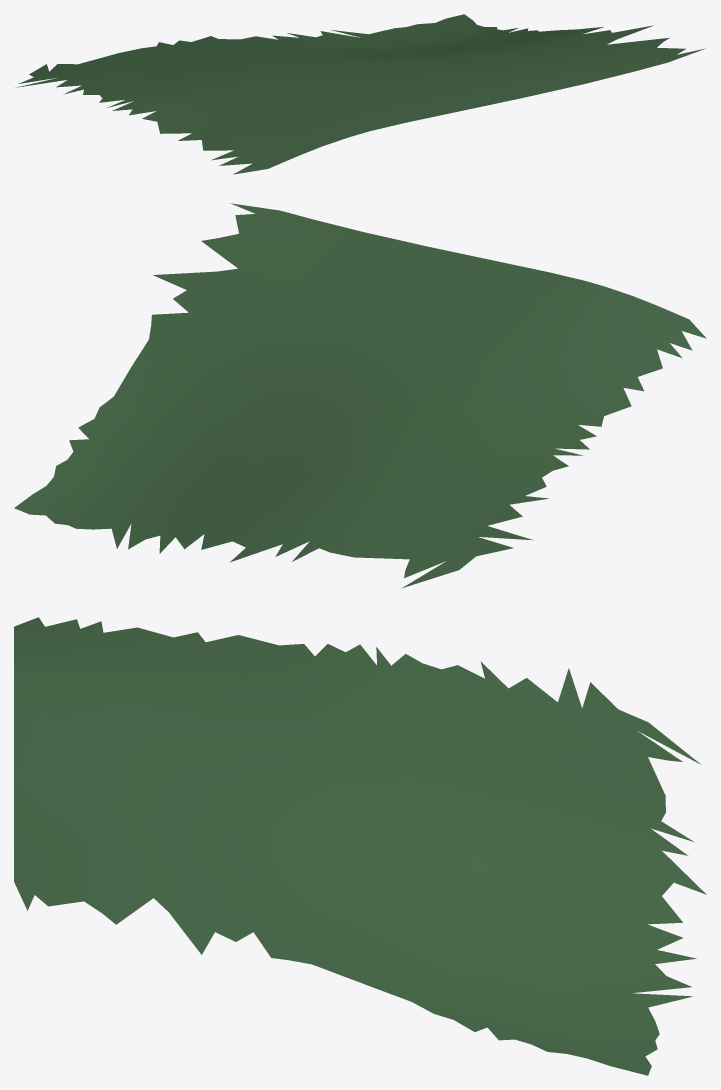
Rendered from payo_land_x3_y10_lod1.glb.
3 views of the same model, one above another, from view 1: azimuth 30°, elevation 25°; view 2: azimuth 150°, elevation 25°; view 3: azimuth 270°, elevation 25° (orthographic). The views are drawn at different scales.
Visible parts, largest first — view 1: payo_land_x3_y10; view 2: payo_land_x3_y10; view 3: payo_land_x3_y10.
Part boxes in pixels (x1,y1,x2,y2): payo_land_x3_y10: [16, 14, 704, 174]; payo_land_x3_y10: [14, 203, 706, 588]; payo_land_x3_y10: [14, 617, 706, 1075].
Size of the model in its own units: 295 by 74.58 by 255.
